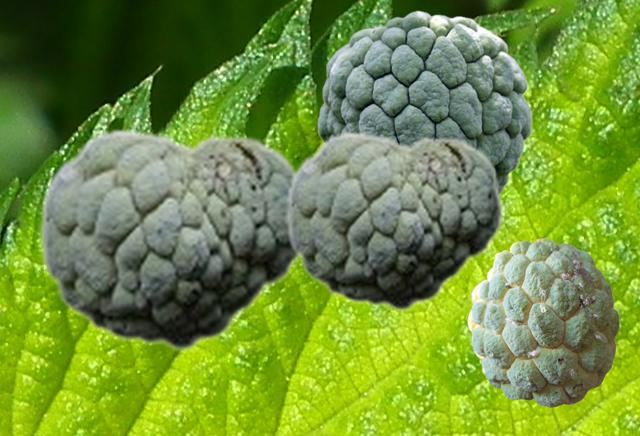atis: (38, 127, 298, 351), (285, 130, 503, 311), (317, 10, 531, 193), (467, 238, 618, 406)
